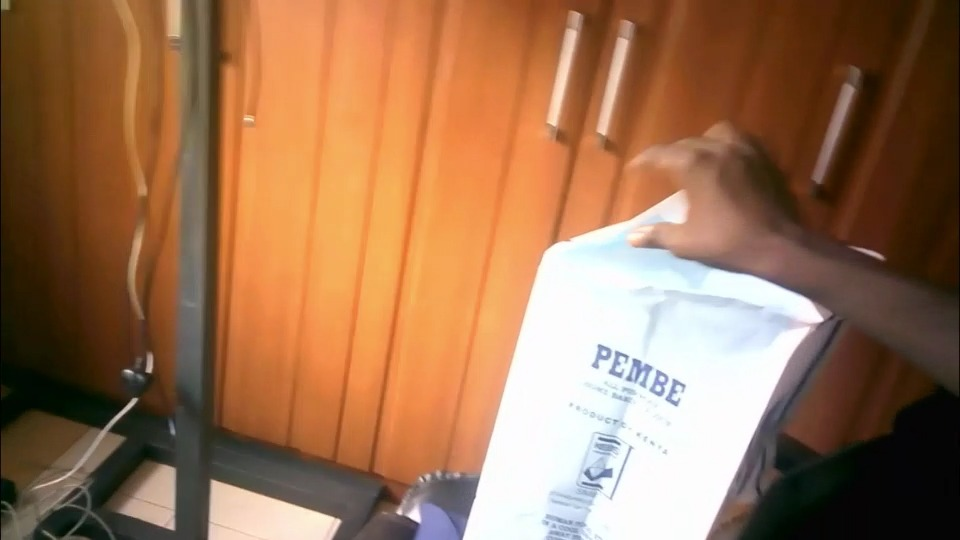wheat_flour_blue_label: (464, 185, 882, 540)
